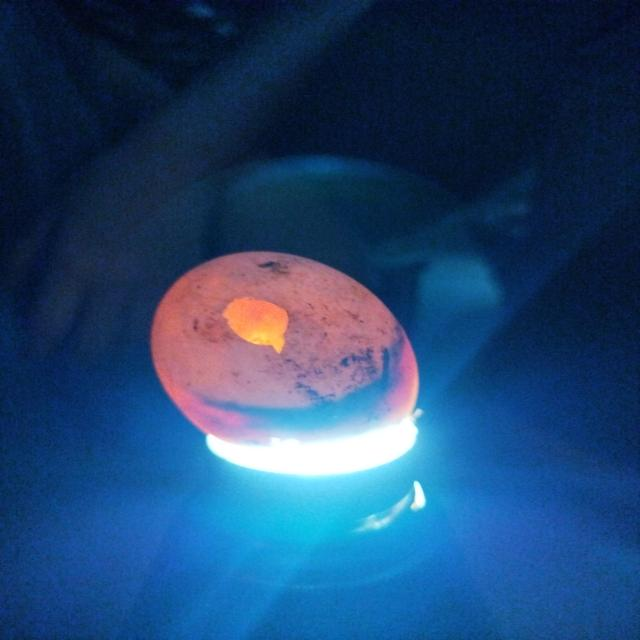Area Infectada: (191, 323, 405, 434)
